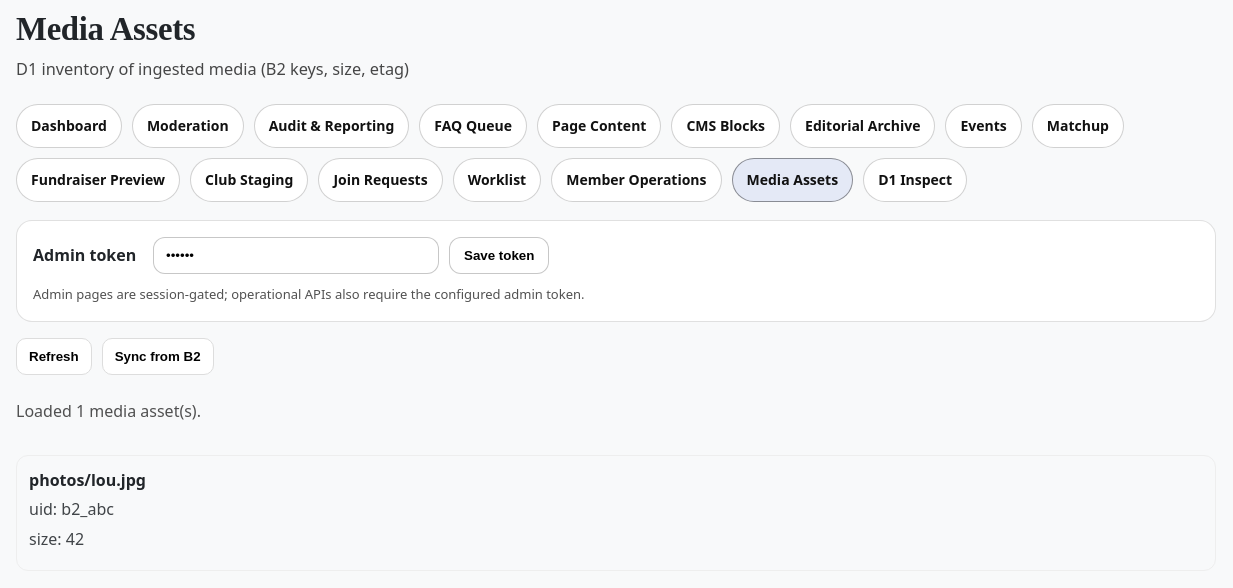
it: admin media assets page › clears inventory when the admin token is removed
Check: the text "photos/lou.jpg" is shown, box [29,469,146,491]
Clear the password field labelled "Admin token". click: (296, 256)
box: [153,237,439,274]
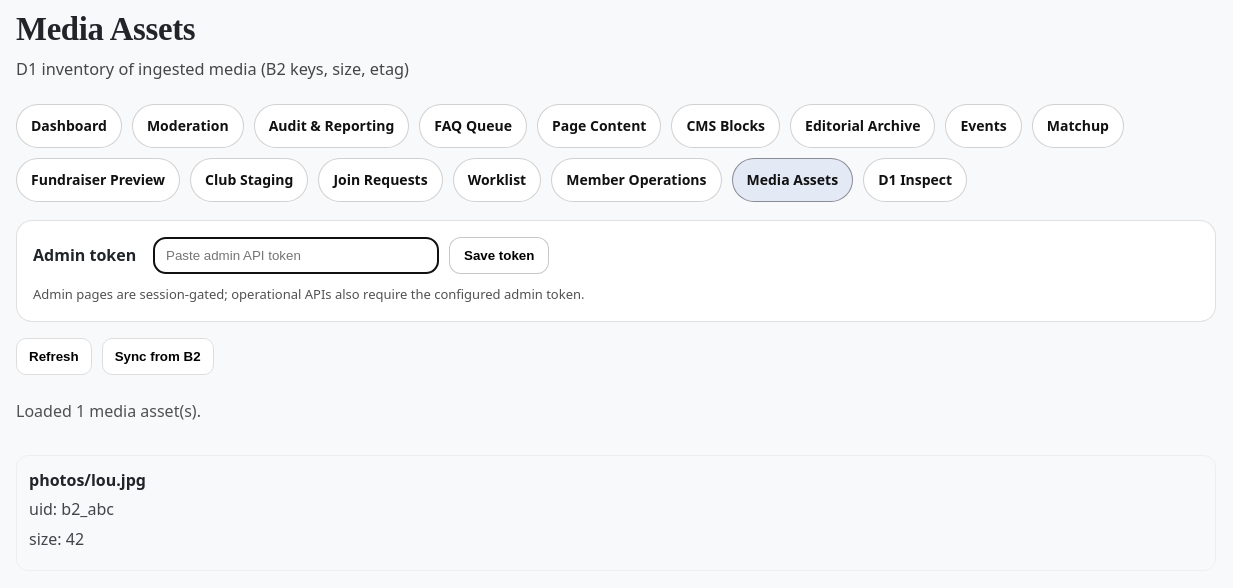
Click the button "Save token". click: (499, 256)
box: [449,237,549,274]
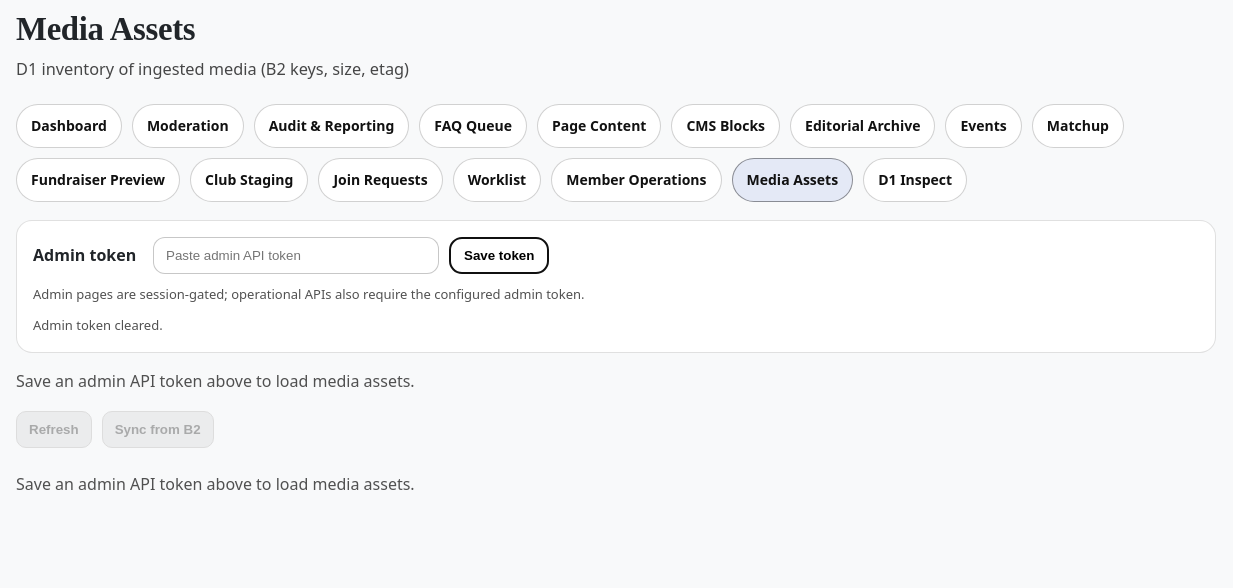
Check: the text "photos/lou.jpg" is gone
Check: the 1st text "Save an admin API token above to load media assets." is shown, box [16,370,415,392]
